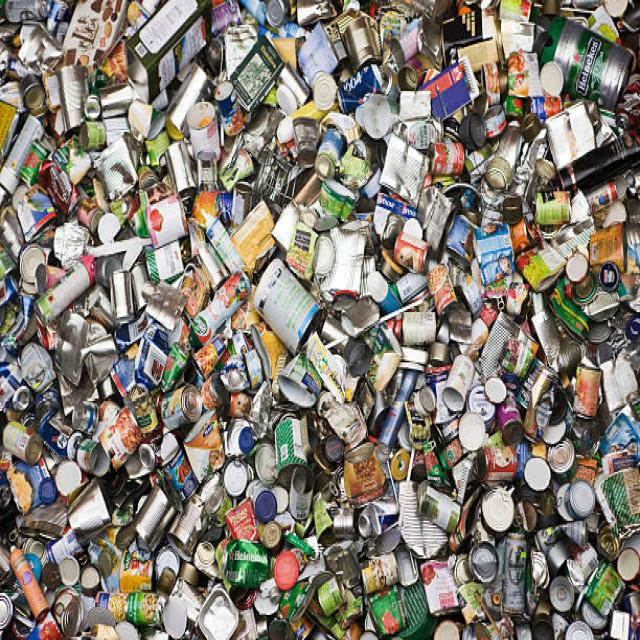metal: (12, 1, 593, 616)
